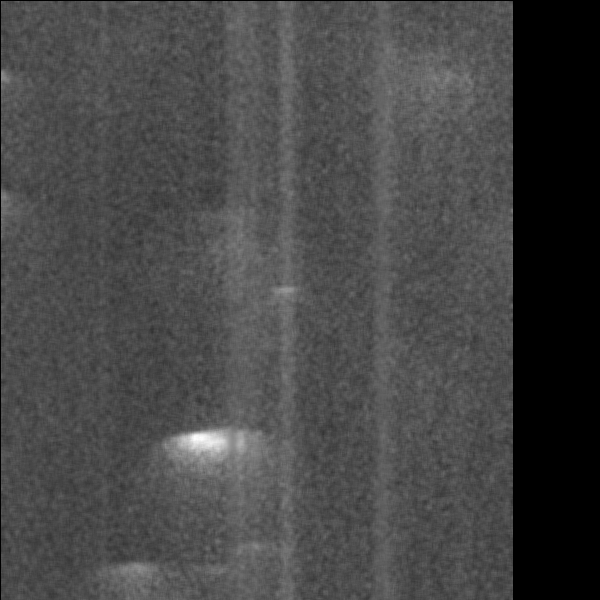spark: (249, 79, 296, 140), (266, 263, 307, 314), (169, 40, 210, 80), (5, 408, 37, 456), (479, 470, 511, 512), (467, 185, 507, 218), (189, 544, 223, 573), (131, 364, 166, 390)
